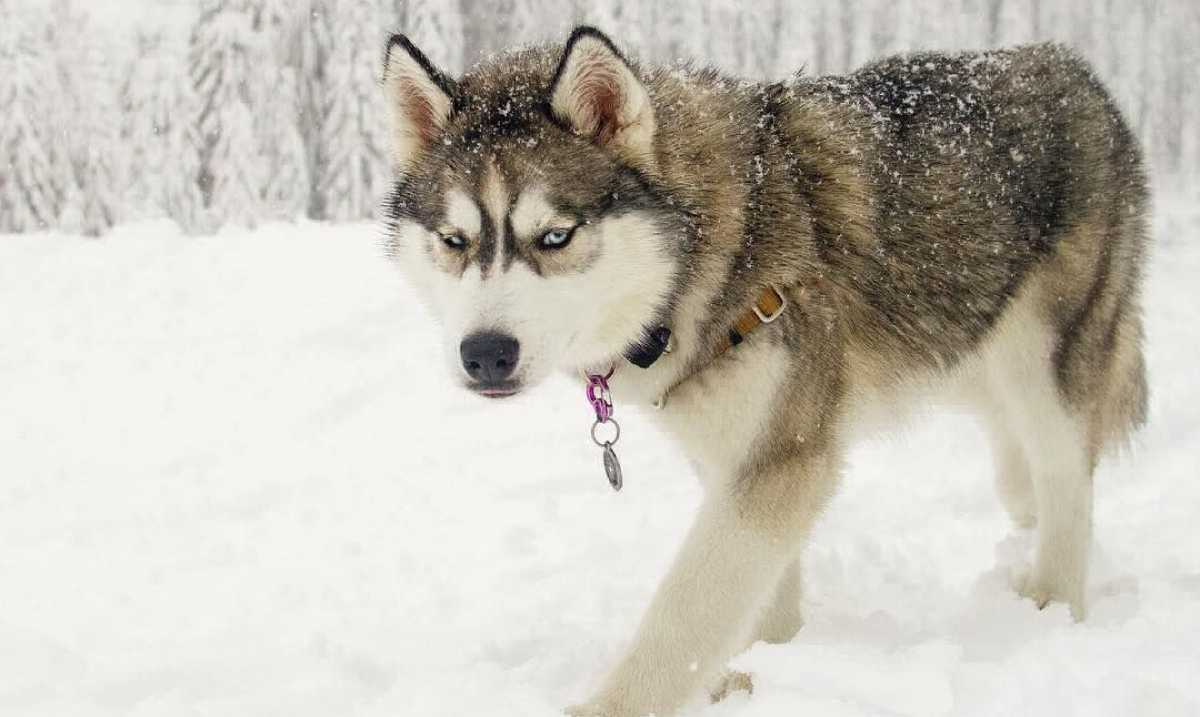husky: (358, 24, 1141, 643)
